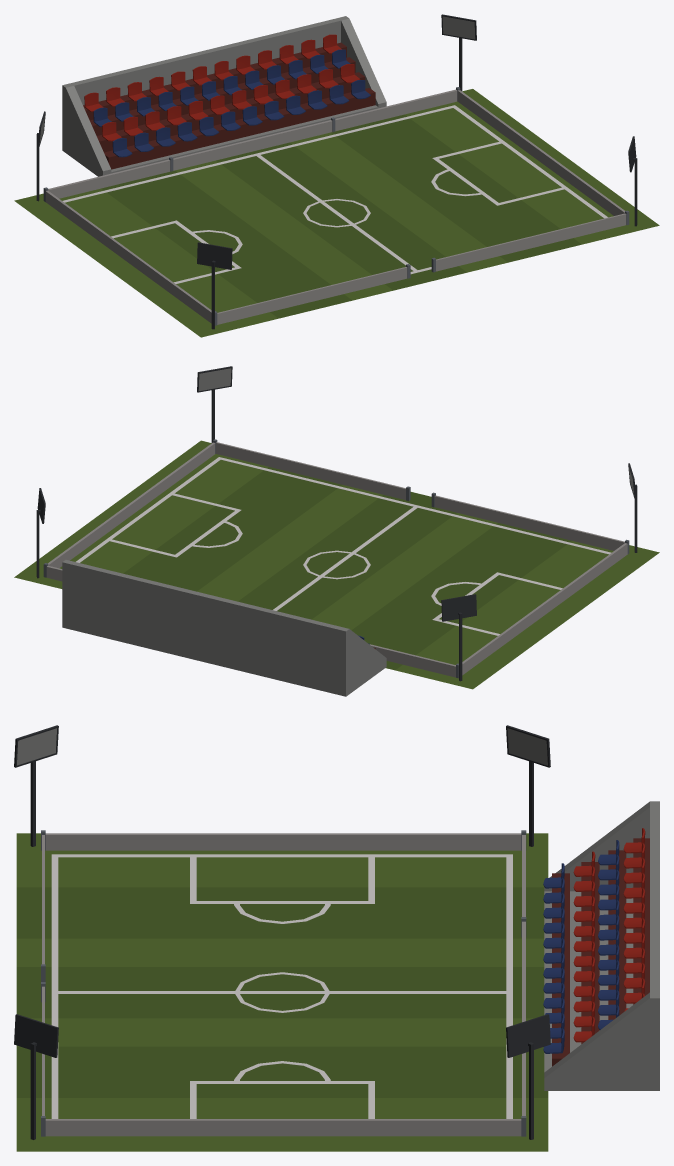
File: FootballStadium_1.fbx
3 views of the same model, one above another, from view 1: azimuth 30°, elevation 25°; view 2: azimuth 150°, elevation 25°; view 3: azimuth 270°, elevation 25° (orthographic). The views are drawn at different scales.
Visible parts, largest first — view 1: FootballStadium_1; view 2: FootballStadium_1; view 3: FootballStadium_1.
Boxes of the visible parts, x1=… form: FootballStadium_1: x1=14, y1=14, x2=659, y2=337; FootballStadium_1: x1=14, y1=366, x2=659, y2=696; FootballStadium_1: x1=14, y1=725, x2=659, y2=1151.
Size of the model in its own units: 3400 by 588 by 2916.
